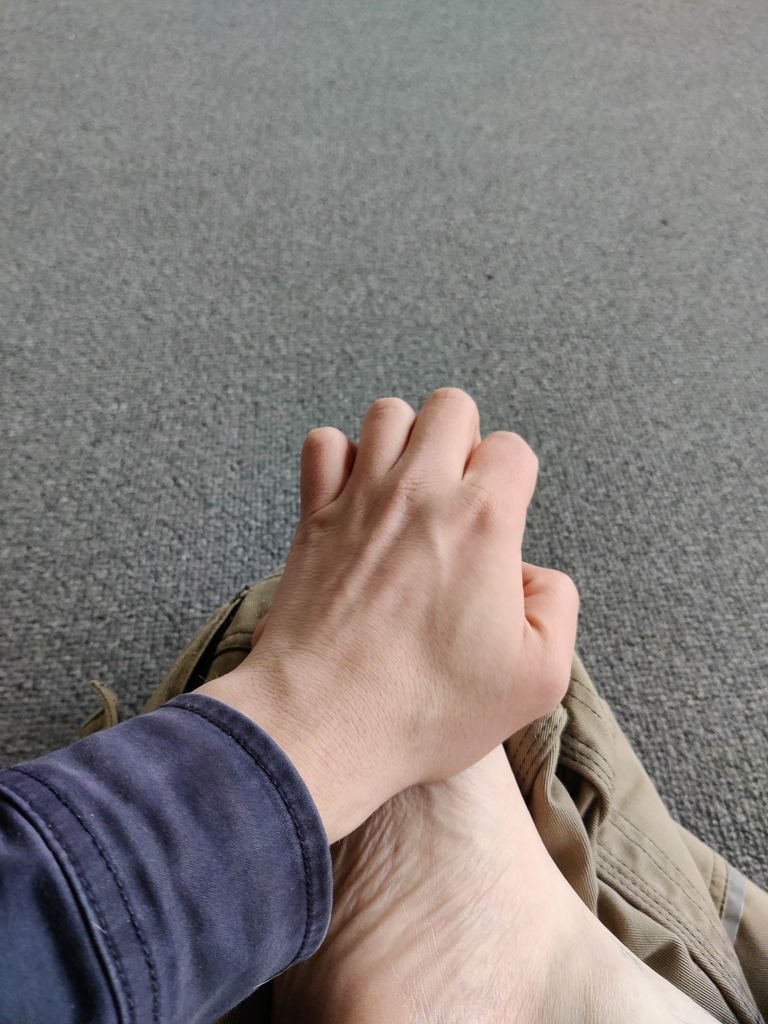Humanoid: (0, 373, 768, 1024)
